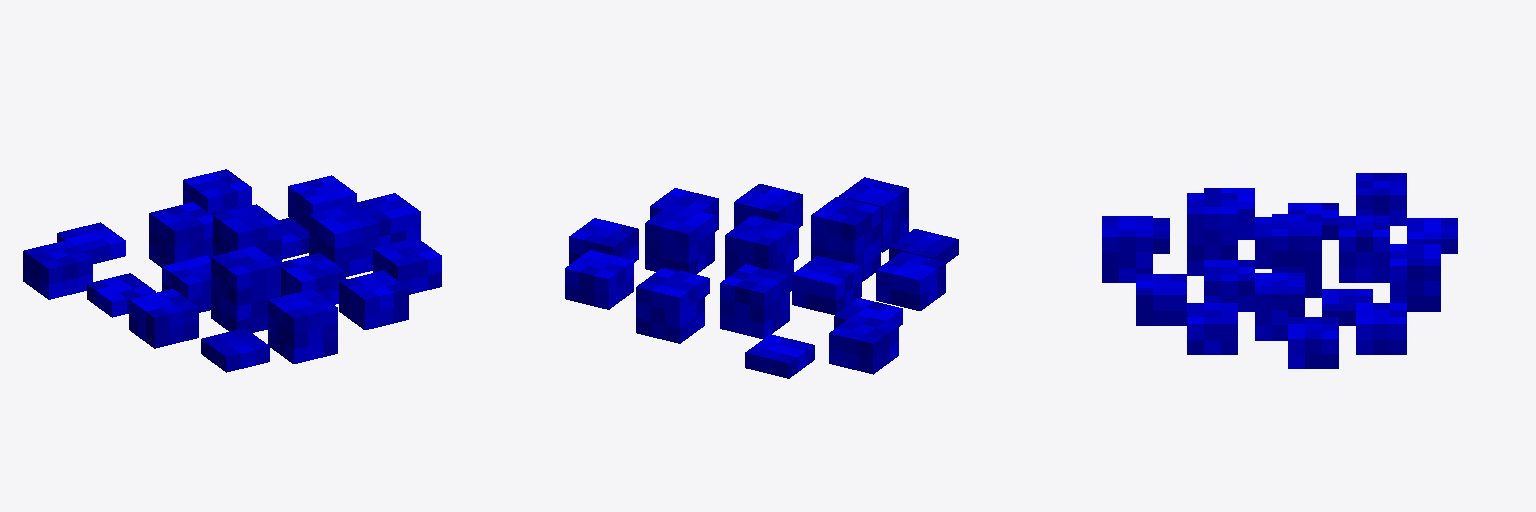
3 views of the same model, side by side, from view 1: azimuth 30°, elevation 25°; view 2: azimuth 150°, elevation 25°; view 3: azimuth 270°, elevation 25° (orthographic).
Parts seen in each view (by area): view 1: object 1; view 2: object 1; view 3: object 1.
Boxes of the visible parts, <box> form: object 1: <box>23,169,441,372</box>; object 1: <box>565,177,958,378</box>; object 1: <box>1102,173,1457,368</box>.
Size of the model in its own units: 2.3 by 0.4 by 2.1.
1 materials, 1 textured.